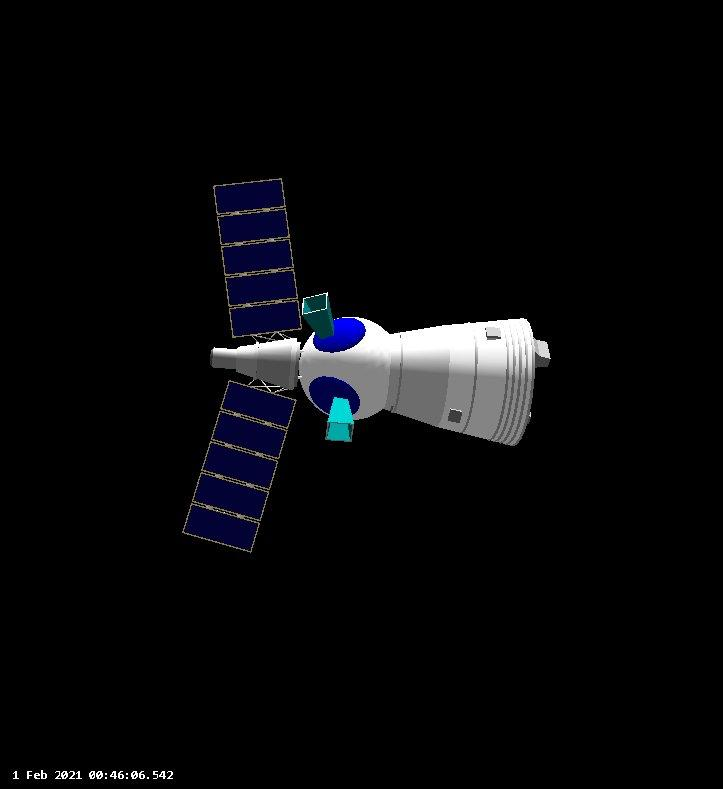body: (206, 316, 536, 448)
solar: (182, 376, 297, 553), (212, 175, 303, 341)
thruster: (299, 293, 337, 339), (323, 397, 355, 443)
